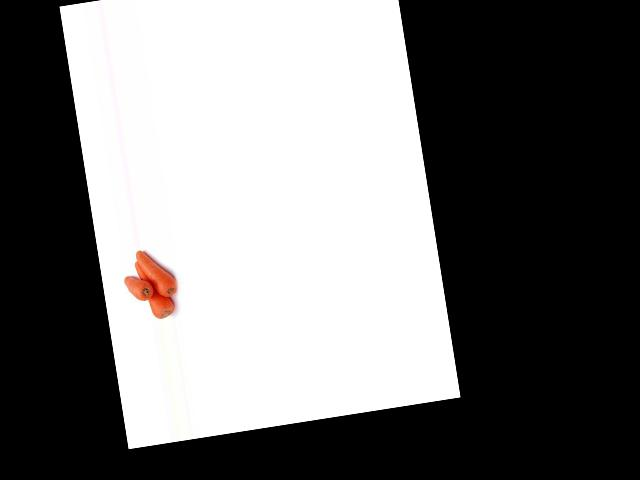carrot: (132, 250, 177, 322)
